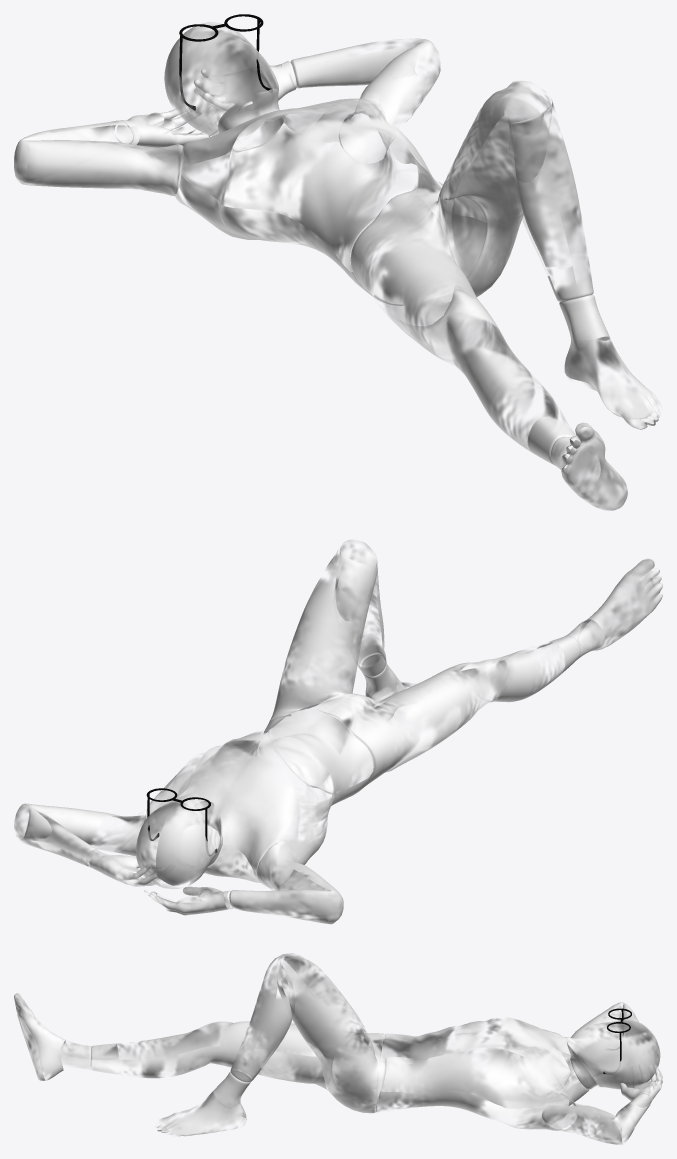
File: layingS.glb
The picture shows the model from 3 angles, top to bottom: view 1: azimuth 30°, elevation 25°; view 2: azimuth 150°, elevation 25°; view 3: azimuth 270°, elevation 25°; orthographic projection. The views are drawn at different scales.
Parts seen in each view (by area): view 1: Ch36, Cube; view 2: Ch36, Cube; view 3: Ch36, Cube.
Boxes of the visible parts, box(x1,y1,x2,y2) form: Ch36: box(14, 22, 660, 510); Cube: box(179, 14, 272, 110); Ch36: box(14, 539, 662, 924); Cube: box(146, 788, 217, 856); Ch36: box(14, 953, 662, 1144); Cube: box(603, 1008, 631, 1073).
Size of the model in its own units: 1.87 by 1.15 by 4.
Materials: 2 (1 with a texture image).
